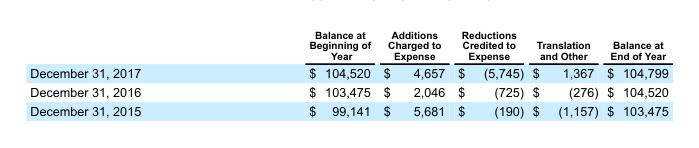table: (29, 29, 667, 117)
table column: (29, 29, 224, 117), (224, 29, 376, 117), (450, 29, 527, 117), (376, 29, 450, 117), (527, 29, 601, 117), (601, 29, 667, 117)
table column header: (29, 29, 667, 63)
table row: (29, 29, 667, 63), (29, 63, 667, 82), (29, 82, 667, 100), (29, 100, 667, 117)
